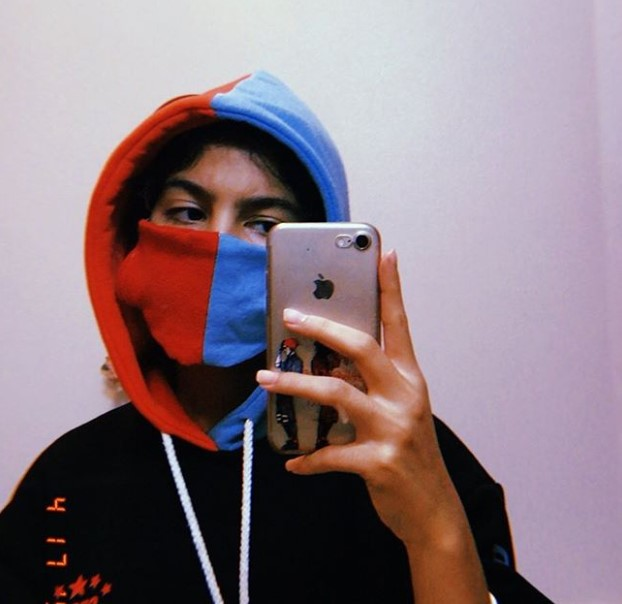face_with_mask: (92, 90, 358, 391)
